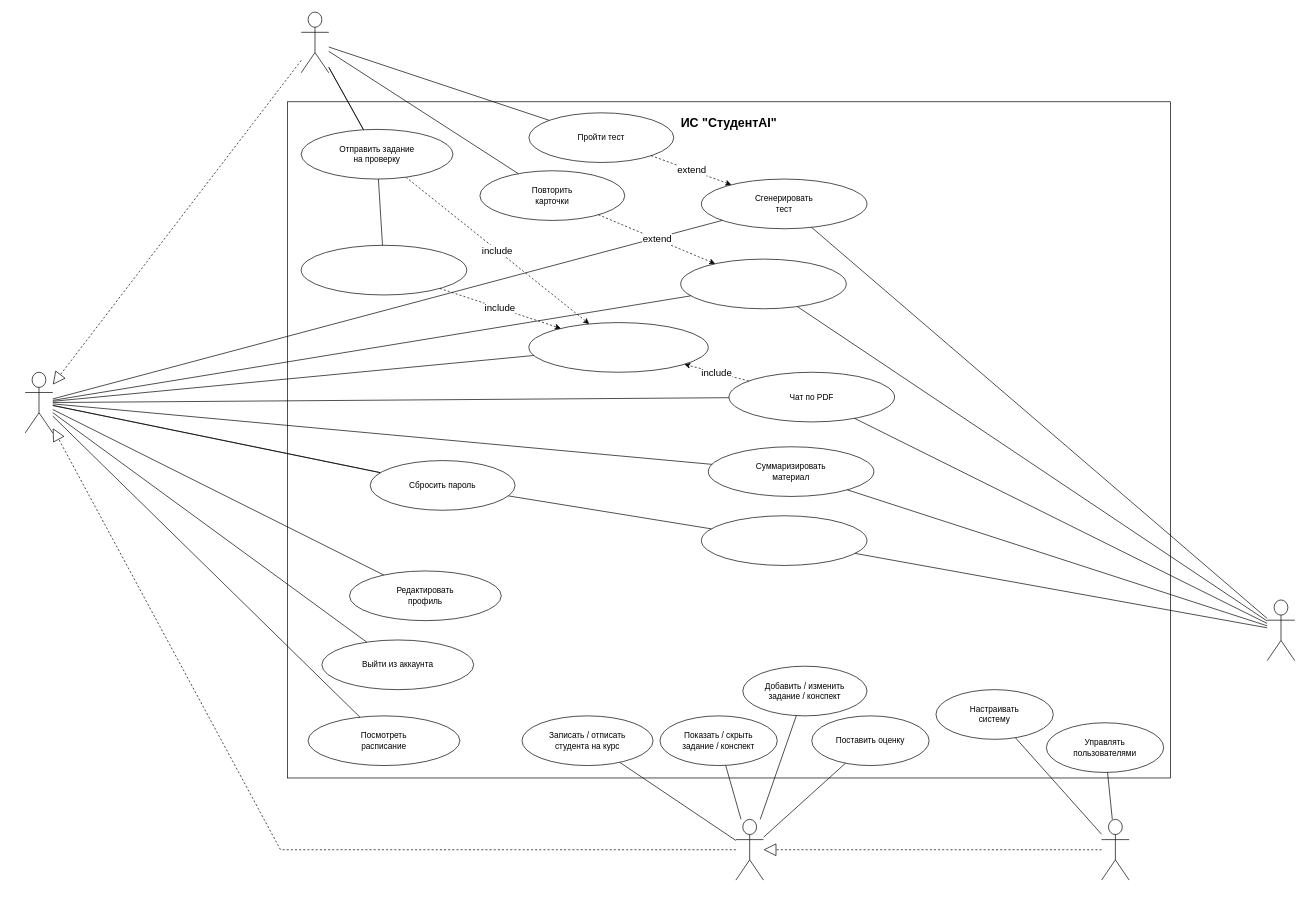
This 1311x907 diagram has some shape labels left out. Here are the shapes that lost their labels. From the top down, the box of each, then its label:
(300, 11, 329, 73): Студент
(300, 245, 467, 295): Экспортировать конспект
(680, 258, 846, 309): Сгенерировать карточки
(528, 322, 708, 372): Загрузить / скачать личные файлы
(24, 372, 53, 433): Пользователь
(701, 515, 867, 565): Объяснить простыми словами
(1266, 599, 1295, 661): AI-сервис
(735, 819, 763, 880): Преподаватель
(1101, 819, 1129, 880): Админ
